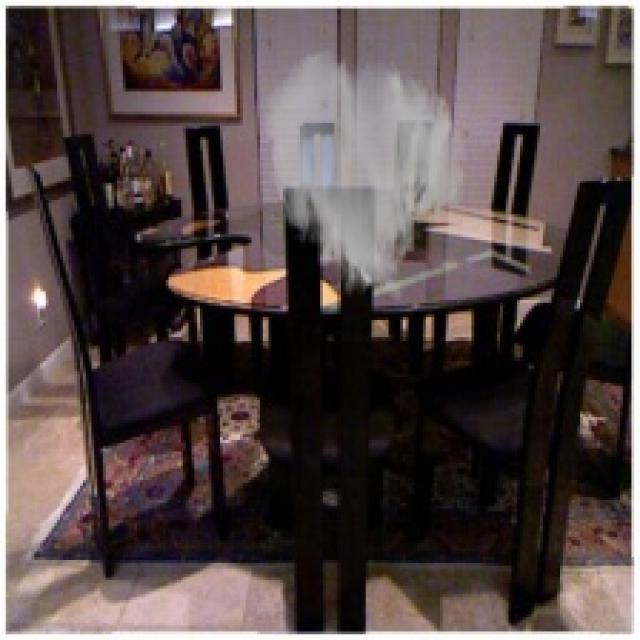smoke: (263, 46, 468, 306)
